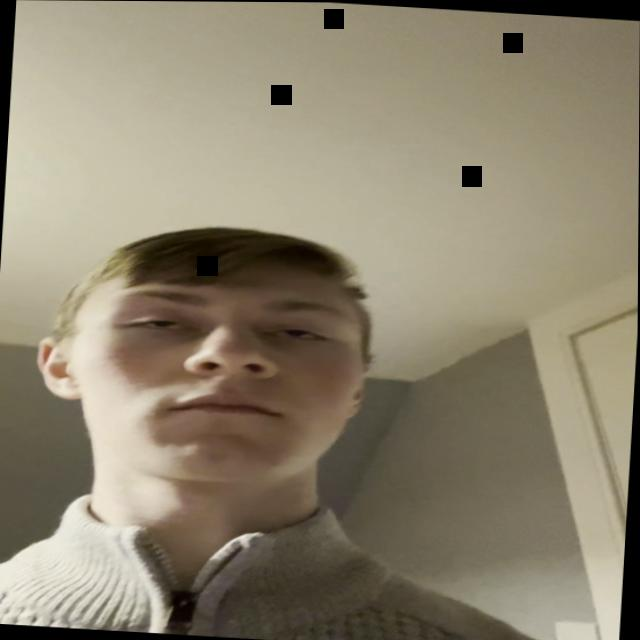NO-Mask: (50, 254, 381, 559)
